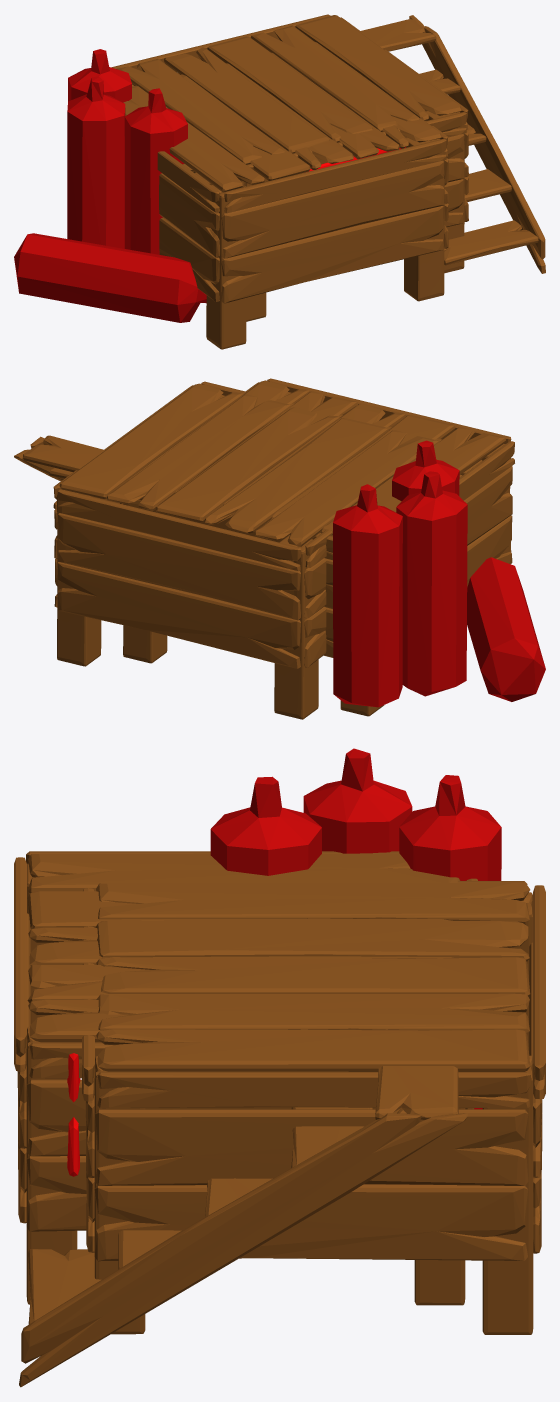
Rendered from Stations.fbx.
3 renders of one model, top to bottom at view 1: azimuth 30°, elevation 25°; view 2: azimuth 150°, elevation 25°; view 3: azimuth 270°, elevation 25°, orthographic. The views are drawn at different scales.
Parts seen in each view (by area): view 1: StationFuel, StationBasic; view 2: StationFuel, StationBasic; view 3: StationFuel, StationBasic.
Boxes of the visible parts, left/top/right/bottom form: StationFuel: left=14, top=14, right=468, bottom=322; StationBasic: left=123, top=15, right=545, bottom=349; StationFuel: left=53, top=381, right=545, bottom=719; StationBasic: left=14, top=378, right=514, bottom=716; StationFuel: left=67, top=748, right=545, bottom=1334; StationBasic: left=14, top=851, right=477, bottom=1387.
Size of the model in its own units: 7.16 by 3.19 by 4.43.
